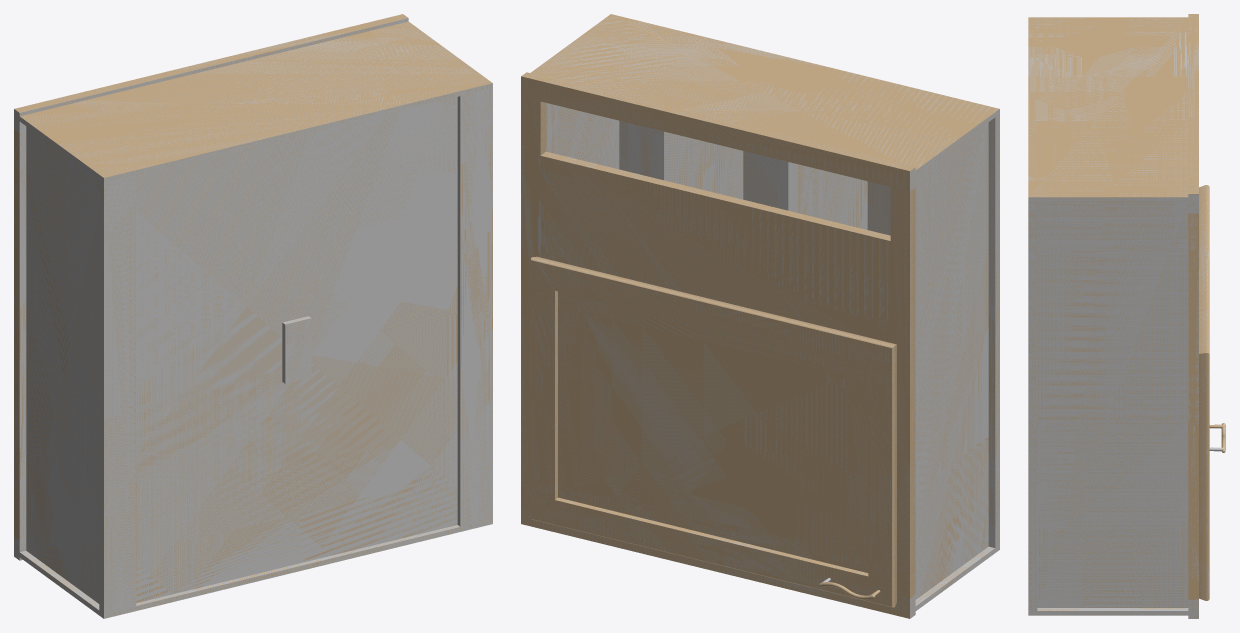
The picture shows the model from 3 angles, left to right: view 1: azimuth 30°, elevation 25°; view 2: azimuth 150°, elevation 25°; view 3: azimuth 270°, elevation 25°; orthographic projection. The views are drawn at different scales.
Visible parts, largest first — view 1: mesh9_mesh9-geometry, mesh11_mesh11-geometry, mesh6_mesh6-geometry, mesh1_mesh1-geometry, mesh8_mesh8-geometry, mesh10_mesh10-geometry, mesh2_mesh2-geometry, mesh5_mesh5-geometry, mesh25_mesh25-geometry; view 2: mesh21_mesh21-geometry, mesh4_mesh4-geometry, mesh6_mesh6-geometry, mesh11_mesh11-geometry, mesh8_mesh8-geometry, mesh20_mesh20-geometry, mesh19_mesh19-geometry, mesh2_mesh2-geometry, mesh12_mesh12-geometry, mesh18_mesh18-geometry, mesh17_mesh17-geometry, mesh9_mesh9-geometry (+7 smaller); view 3: mesh7_mesh7-geometry, mesh11_mesh11-geometry, mesh8_mesh8-geometry, mesh1_mesh1-geometry, mesh2_mesh2-geometry, mesh9_mesh9-geometry, mesh17_mesh17-geometry, mesh20_mesh20-geometry, mesh10_mesh10-geometry, mesh14_mesh14-geometry, mesh13_mesh13-geometry.
Boxes of the visible parts, x1,y1,x2,y2 form: mesh9_mesh9-geometry: [99, 97, 457, 611]; mesh11_mesh11-geometry: [19, 21, 492, 182]; mesh6_mesh6-geometry: [26, 126, 99, 603]; mesh1_mesh1-geometry: [101, 88, 492, 613]; mesh8_mesh8-geometry: [14, 129, 26, 540]; mesh10_mesh10-geometry: [19, 519, 492, 618]; mesh2_mesh2-geometry: [14, 14, 408, 133]; mesh5_mesh5-geometry: [282, 316, 311, 383]; mesh25_mesh25-geometry: [438, 363, 457, 529]; mesh21_mesh21-geometry: [580, 311, 846, 552]; mesh4_mesh4-geometry: [540, 151, 890, 342]; mesh6_mesh6-geometry: [546, 103, 988, 599]; mesh11_mesh11-geometry: [530, 14, 999, 175]; mesh8_mesh8-geometry: [521, 96, 915, 598]; mesh20_mesh20-geometry: [578, 268, 849, 375]; mesh19_mesh19-geometry: [578, 488, 846, 595]; mesh2_mesh2-geometry: [521, 72, 915, 191]; mesh12_mesh12-geometry: [654, 129, 867, 229]; mesh18_mesh18-geometry: [847, 376, 896, 565]; mesh17_mesh17-geometry: [531, 301, 580, 487]; mesh9_mesh9-geometry: [619, 116, 996, 547]; mesh7_mesh7-geometry: [1037, 202, 1188, 607]; mesh11_mesh11-geometry: [1028, 17, 1188, 201]; mesh8_mesh8-geometry: [1188, 213, 1198, 599]; mesh1_mesh1-geometry: [1028, 202, 1033, 610]; mesh2_mesh2-geometry: [1188, 14, 1198, 213]; mesh9_mesh9-geometry: [1033, 202, 1037, 610]; mesh17_mesh17-geometry: [1199, 392, 1209, 560]; mesh20_mesh20-geometry: [1199, 207, 1209, 332]; mesh10_mesh10-geometry: [1028, 608, 1188, 615]; mesh14_mesh14-geometry: [1199, 330, 1209, 392]; mesh13_mesh13-geometry: [1199, 560, 1209, 600].
Size of the model in its own units: 0.6423 by 0.7065 by 0.2971.
